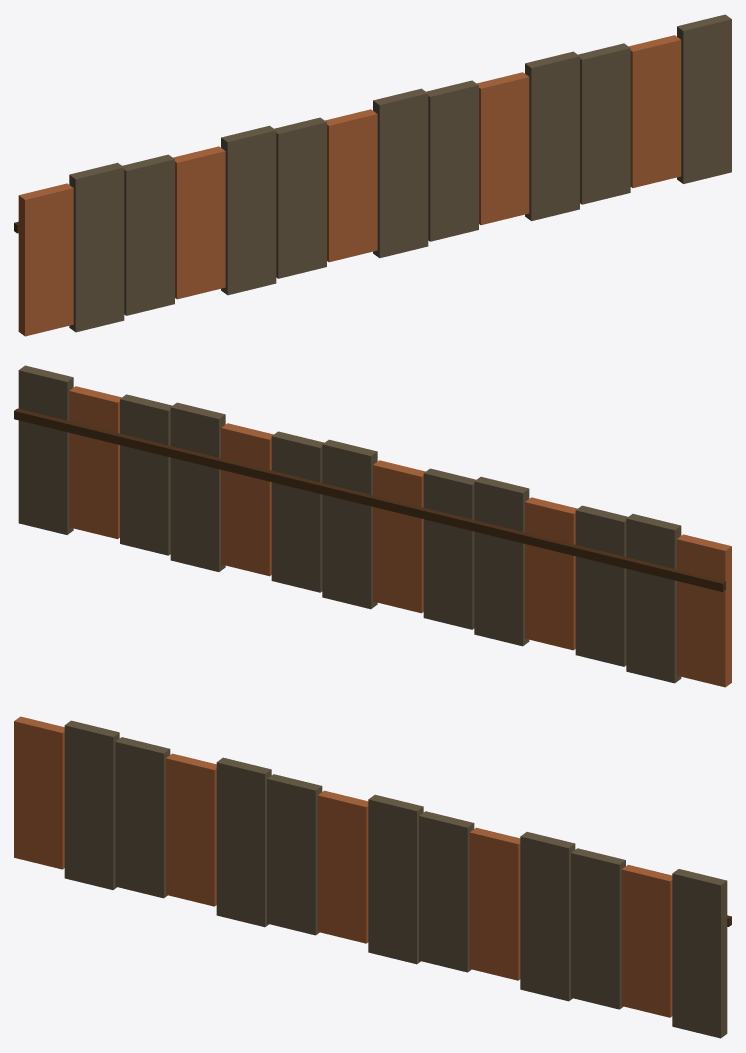
The model's file is gnome_wall_broken.glb.
3 renders of one model, top to bottom at view 1: azimuth 30°, elevation 25°; view 2: azimuth 150°, elevation 25°; view 3: azimuth 330°, elevation 25°, orthographic.
Parts seen in each view (by area): view 1: gnome_wall_piece4, gnome_wall_piece1, gnome_wall_piece5, gnome_wall_piece13, gnome_wall_piece8, gnome_wall_piece6, gnome_wall_piece2, gnome_wall_piece7, gnome_wall_piece9, gnome_wall_piece10, gnome_wall_piece3, gnome_wall_piece0 (+1 smaller); view 2: gnome_wall_piece1, gnome_wall_piece2, gnome_wall_piece4, gnome_wall_piece5, gnome_wall_piece3, gnome_wall_piece7, gnome_wall_piece9, gnome_wall_piece6, gnome_wall_piece8, gnome_wall_piece13, gnome_wall_piece11, gnome_wall_piece10 (+2 smaller); view 3: gnome_wall_piece4, gnome_wall_piece1, gnome_wall_piece5, gnome_wall_piece13, gnome_wall_piece8, gnome_wall_piece6, gnome_wall_piece2, gnome_wall_piece7, gnome_wall_piece9, gnome_wall_piece10, gnome_wall_piece3, gnome_wall_piece0 (+1 smaller).
Part boxes in pixels (x1,y1,x2,y2): gnome_wall_piece4: (606,14,731,187); gnome_wall_piece1: (393,60,552,254); gnome_wall_piece5: (129,154,258,295); gnome_wall_piece13: (14,217,126,336); gnome_wall_piece8: (184,118,340,213); gnome_wall_piece6: (361,80,476,255); gnome_wall_piece2: (225,175,352,287); gnome_wall_piece7: (525,58,629,221); gnome_wall_piece9: (14,162,133,258); gnome_wall_piece10: (307,92,422,208); gnome_wall_piece3: (544,43,641,192); gnome_wall_piece0: (114,257,210,322); gnome_wall_piece1: (204,409,348,601); gnome_wall_piece2: (388,503,546,640); gnome_wall_piece4: (14,365,148,534); gnome_wall_piece5: (502,503,625,646); gnome_wall_piece3: (67,397,204,538); gnome_wall_piece7: (114,413,227,571); gnome_wall_piece9: (601,514,731,623); gnome_wall_piece6: (272,432,383,590); gnome_wall_piece8: (400,473,559,552); gnome_wall_piece13: (655,564,731,687); gnome_wall_piece11: (341,529,454,625); gnome_wall_piece10: (334,441,449,536); gnome_wall_piece4: (595,859,731,1038); gnome_wall_piece1: (382,823,541,980); gnome_wall_piece5: (118,740,247,922); gnome_wall_piece13: (14,738,115,887); gnome_wall_piece8: (186,757,329,852); gnome_wall_piece6: (350,803,473,955); gnome_wall_piece2: (215,827,341,928); gnome_wall_piece7: (519,835,623,1009); gnome_wall_piece9: (14,716,135,829); gnome_wall_piece10: (296,785,411,893); gnome_wall_piece3: (539,836,643,1009); gnome_wall_piece0: (103,827,198,902).
Size of the model in its own units: 6.25 by 1.29 by 0.155.
